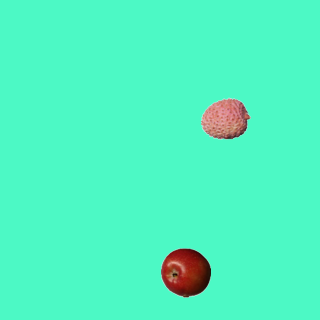Apple Braeburn: (160, 247, 210, 297)
Lychee: (200, 93, 250, 143)
